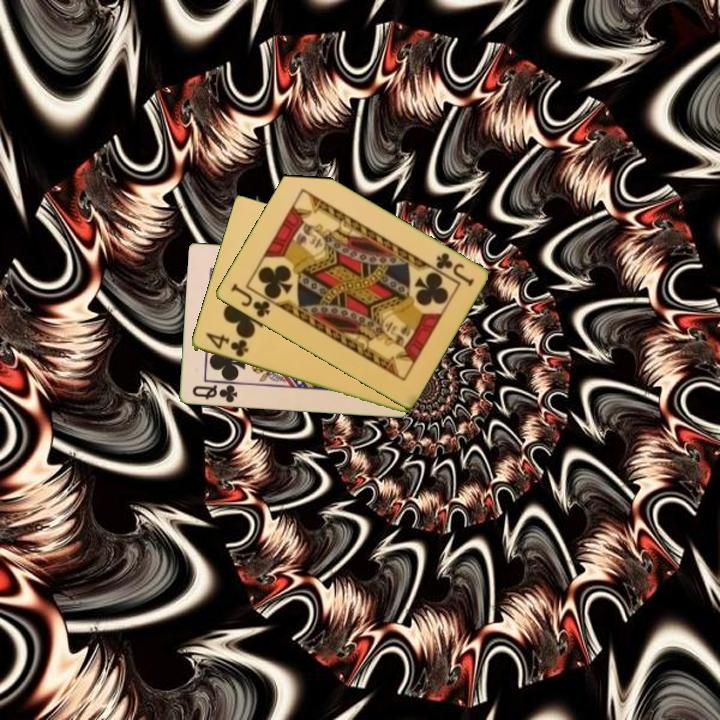4c: (201, 329, 251, 360)
Jc: (227, 280, 273, 321), (432, 249, 477, 289)
Qc: (188, 381, 240, 406)
